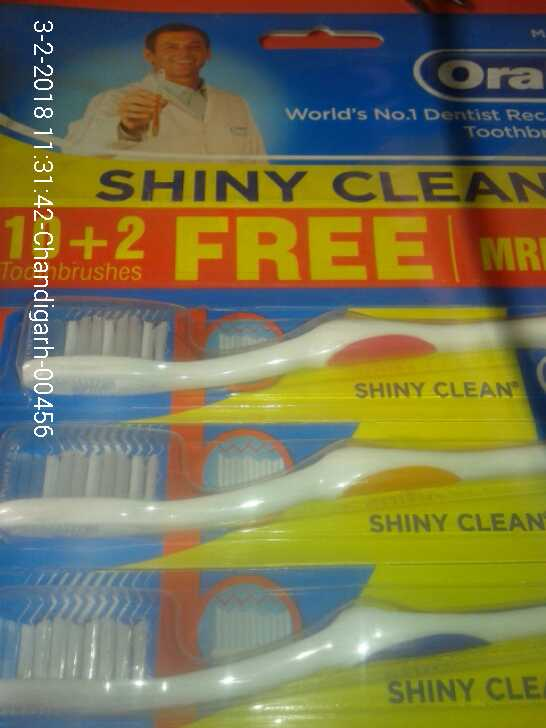oralb: (9, 257, 546, 405), (8, 584, 546, 705), (1, 431, 546, 535)
